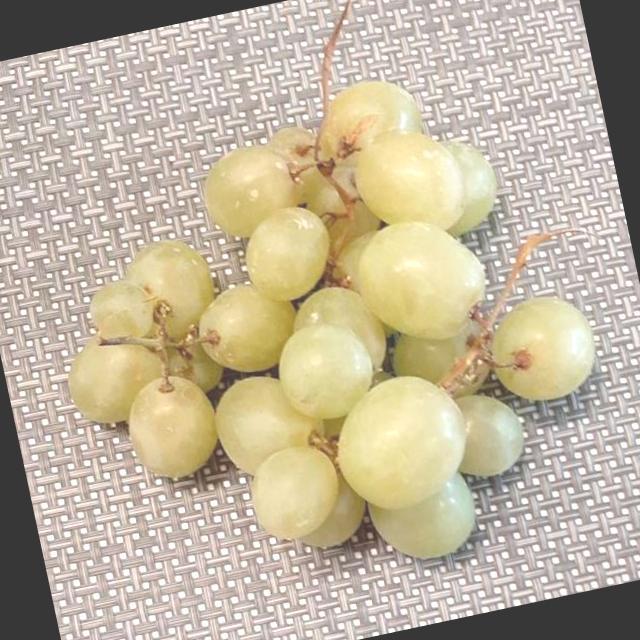Grapes: (10, 17, 640, 630)
